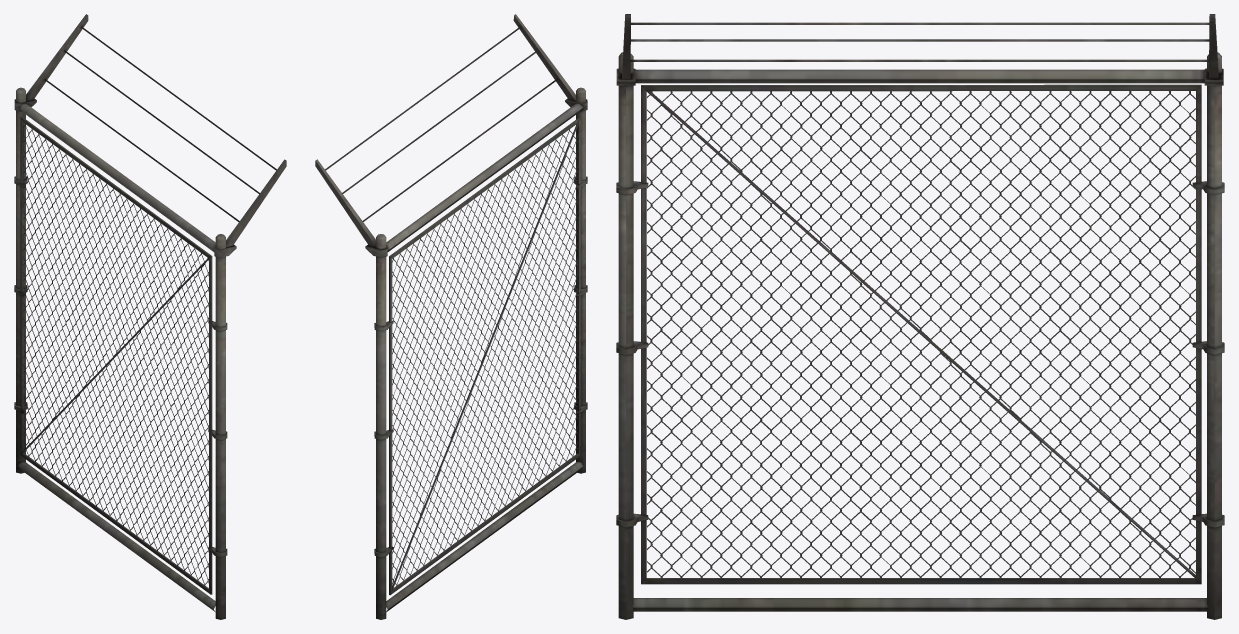
File: exterior_fence002c.glb
The picture shows the model from 3 angles, left to right: view 1: azimuth 30°, elevation 25°; view 2: azimuth 150°, elevation 25°; view 3: azimuth 270°, elevation 25°; orthographic projection. The views are drawn at different scales.
Parts seen in each view (by area): view 1: 1_fence_alpha, 0_fence_sheet01; view 2: 1_fence_alpha, 0_fence_sheet01; view 3: 0_fence_sheet01, 1_fence_alpha.
Part boxes in pixels (<box>): 1_fence_alpha: <box>23,124,208,585</box>; 0_fence_sheet01: <box>14,14,286,619</box>; 1_fence_alpha: <box>392,124,577,586</box>; 0_fence_sheet01: <box>315,14,587,619</box>; 0_fence_sheet01: <box>616,14,1224,619</box>; 1_fence_alpha: <box>647,91,1195,578</box>.
Bounding box in the file's own units: 0.6618 × 3.86 × 3.28.
Materials: 2 (2 with a texture image).
